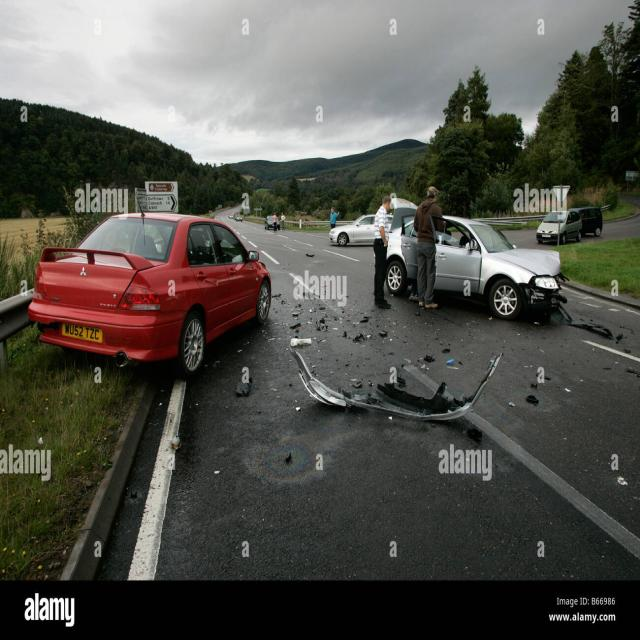Accident: (359, 203, 566, 343)
